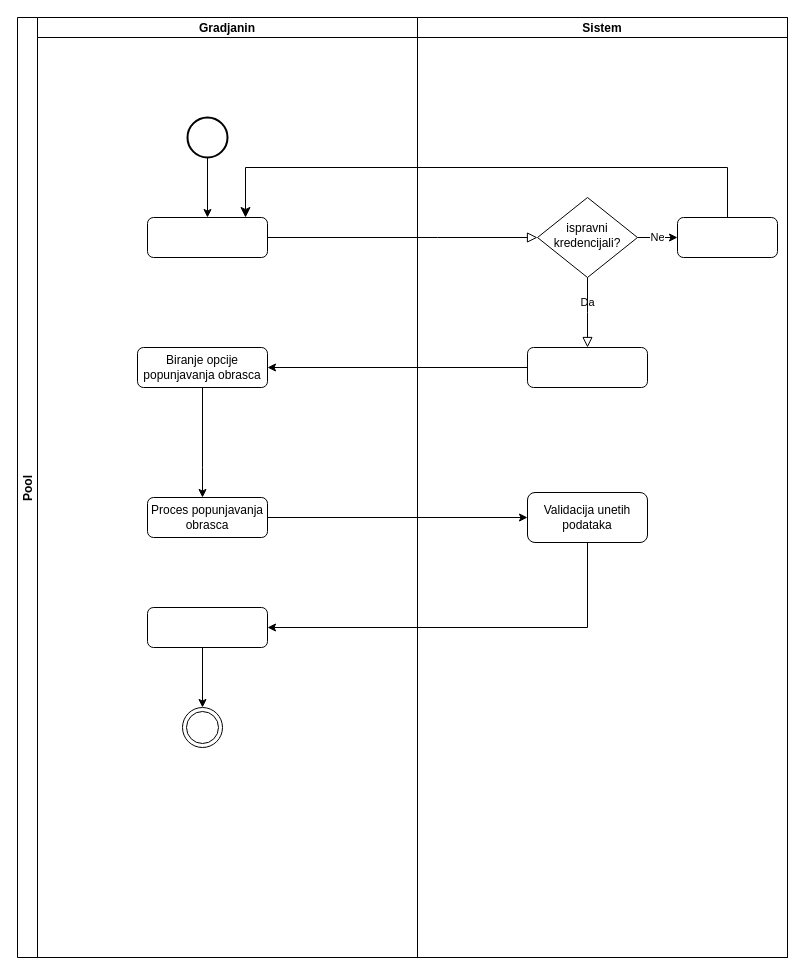
Some shapes in this 805 by 975 pixel diagram are drawn without their labels. The centre of each missing label's shape, as x and y in pixels:
"Dobri su kredencijali" goes at point (587, 367).
"Nisu ispravni kredencijali" goes at point (727, 237).
"Potvrda" goes at point (207, 627).
"Prijava na sistem" goes at point (207, 237).
